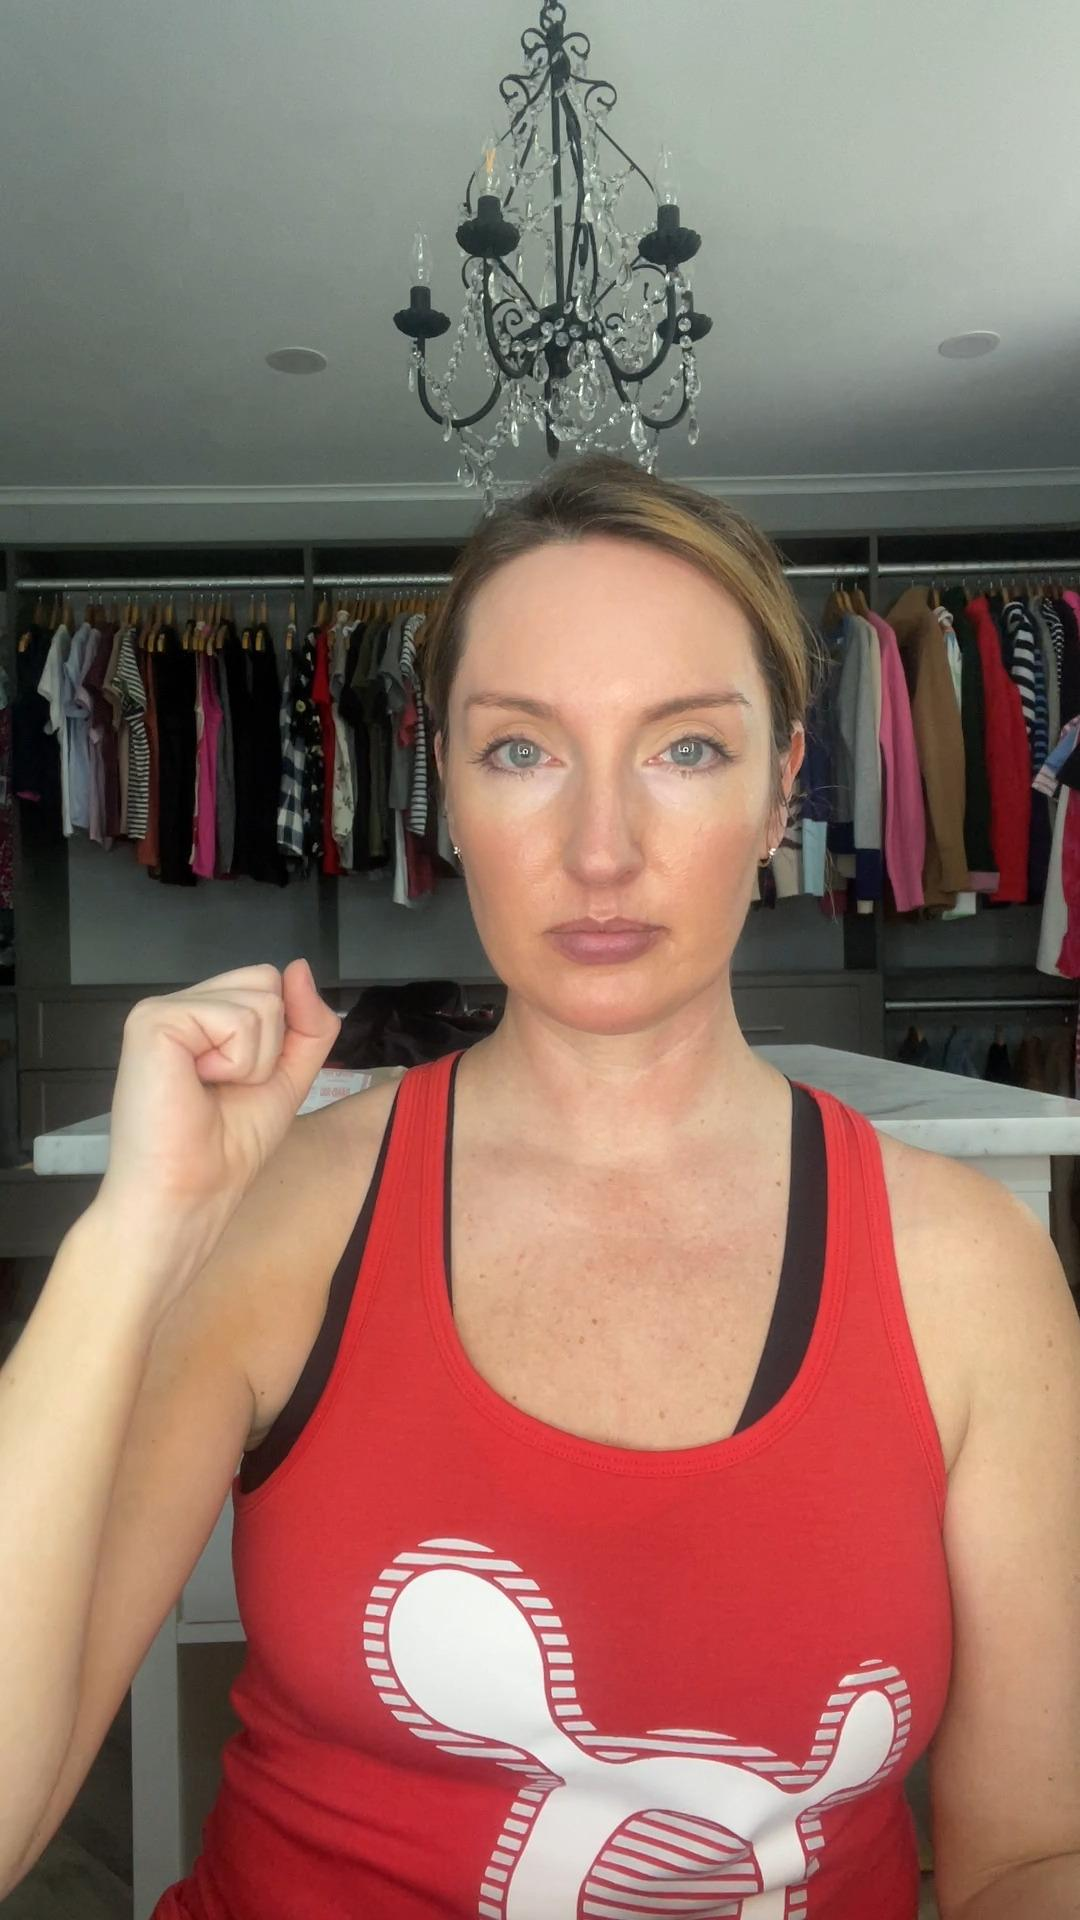Rock: (116, 956, 344, 1250)
